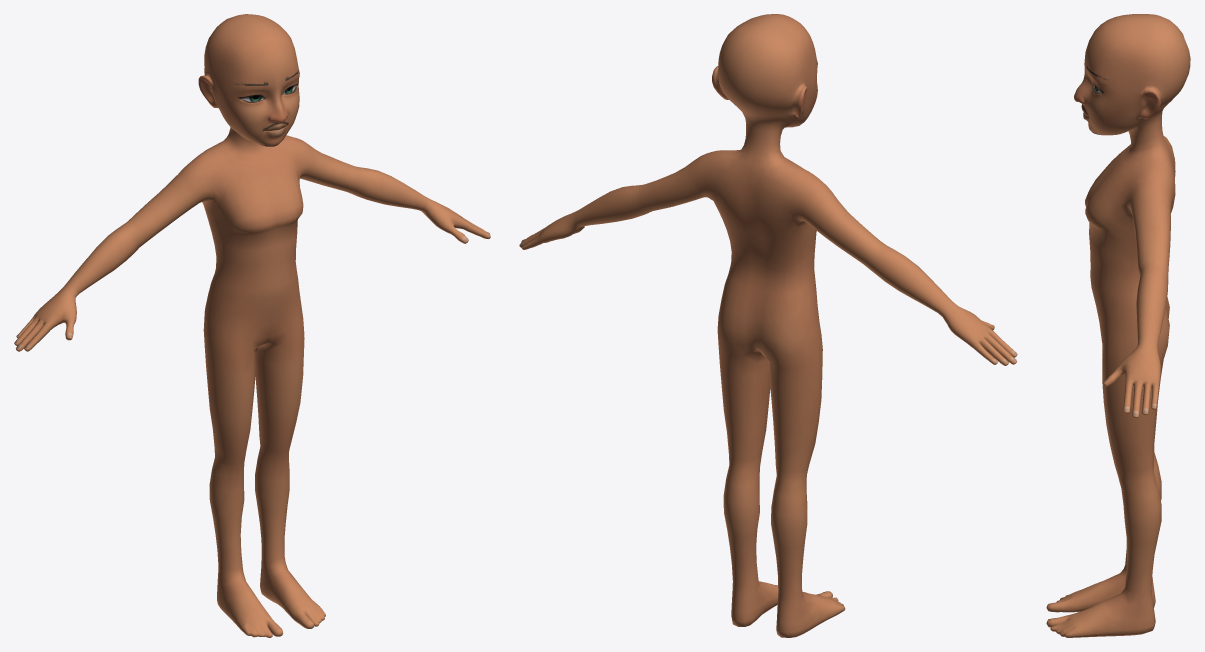
File: frame_0029.glb
3 views of the same model, side by side, from view 1: azimuth 30°, elevation 25°; view 2: azimuth 150°, elevation 25°; view 3: azimuth 270°, elevation 25° (orthographic). The views are drawn at different scales.
Visible parts, largest first — view 1: frame_0029_head_geo; view 2: frame_0029_head_geo; view 3: frame_0029_head_geo.
Boxes of the visible parts, x1,y1,x2,y2 form: frame_0029_head_geo: (14,14,490,637); frame_0029_head_geo: (519,14,1017,637); frame_0029_head_geo: (1046,14,1190,637).
Size of the model in its own units: 1.28 by 1.5 by 0.3253.
3 materials, 3 textured.
